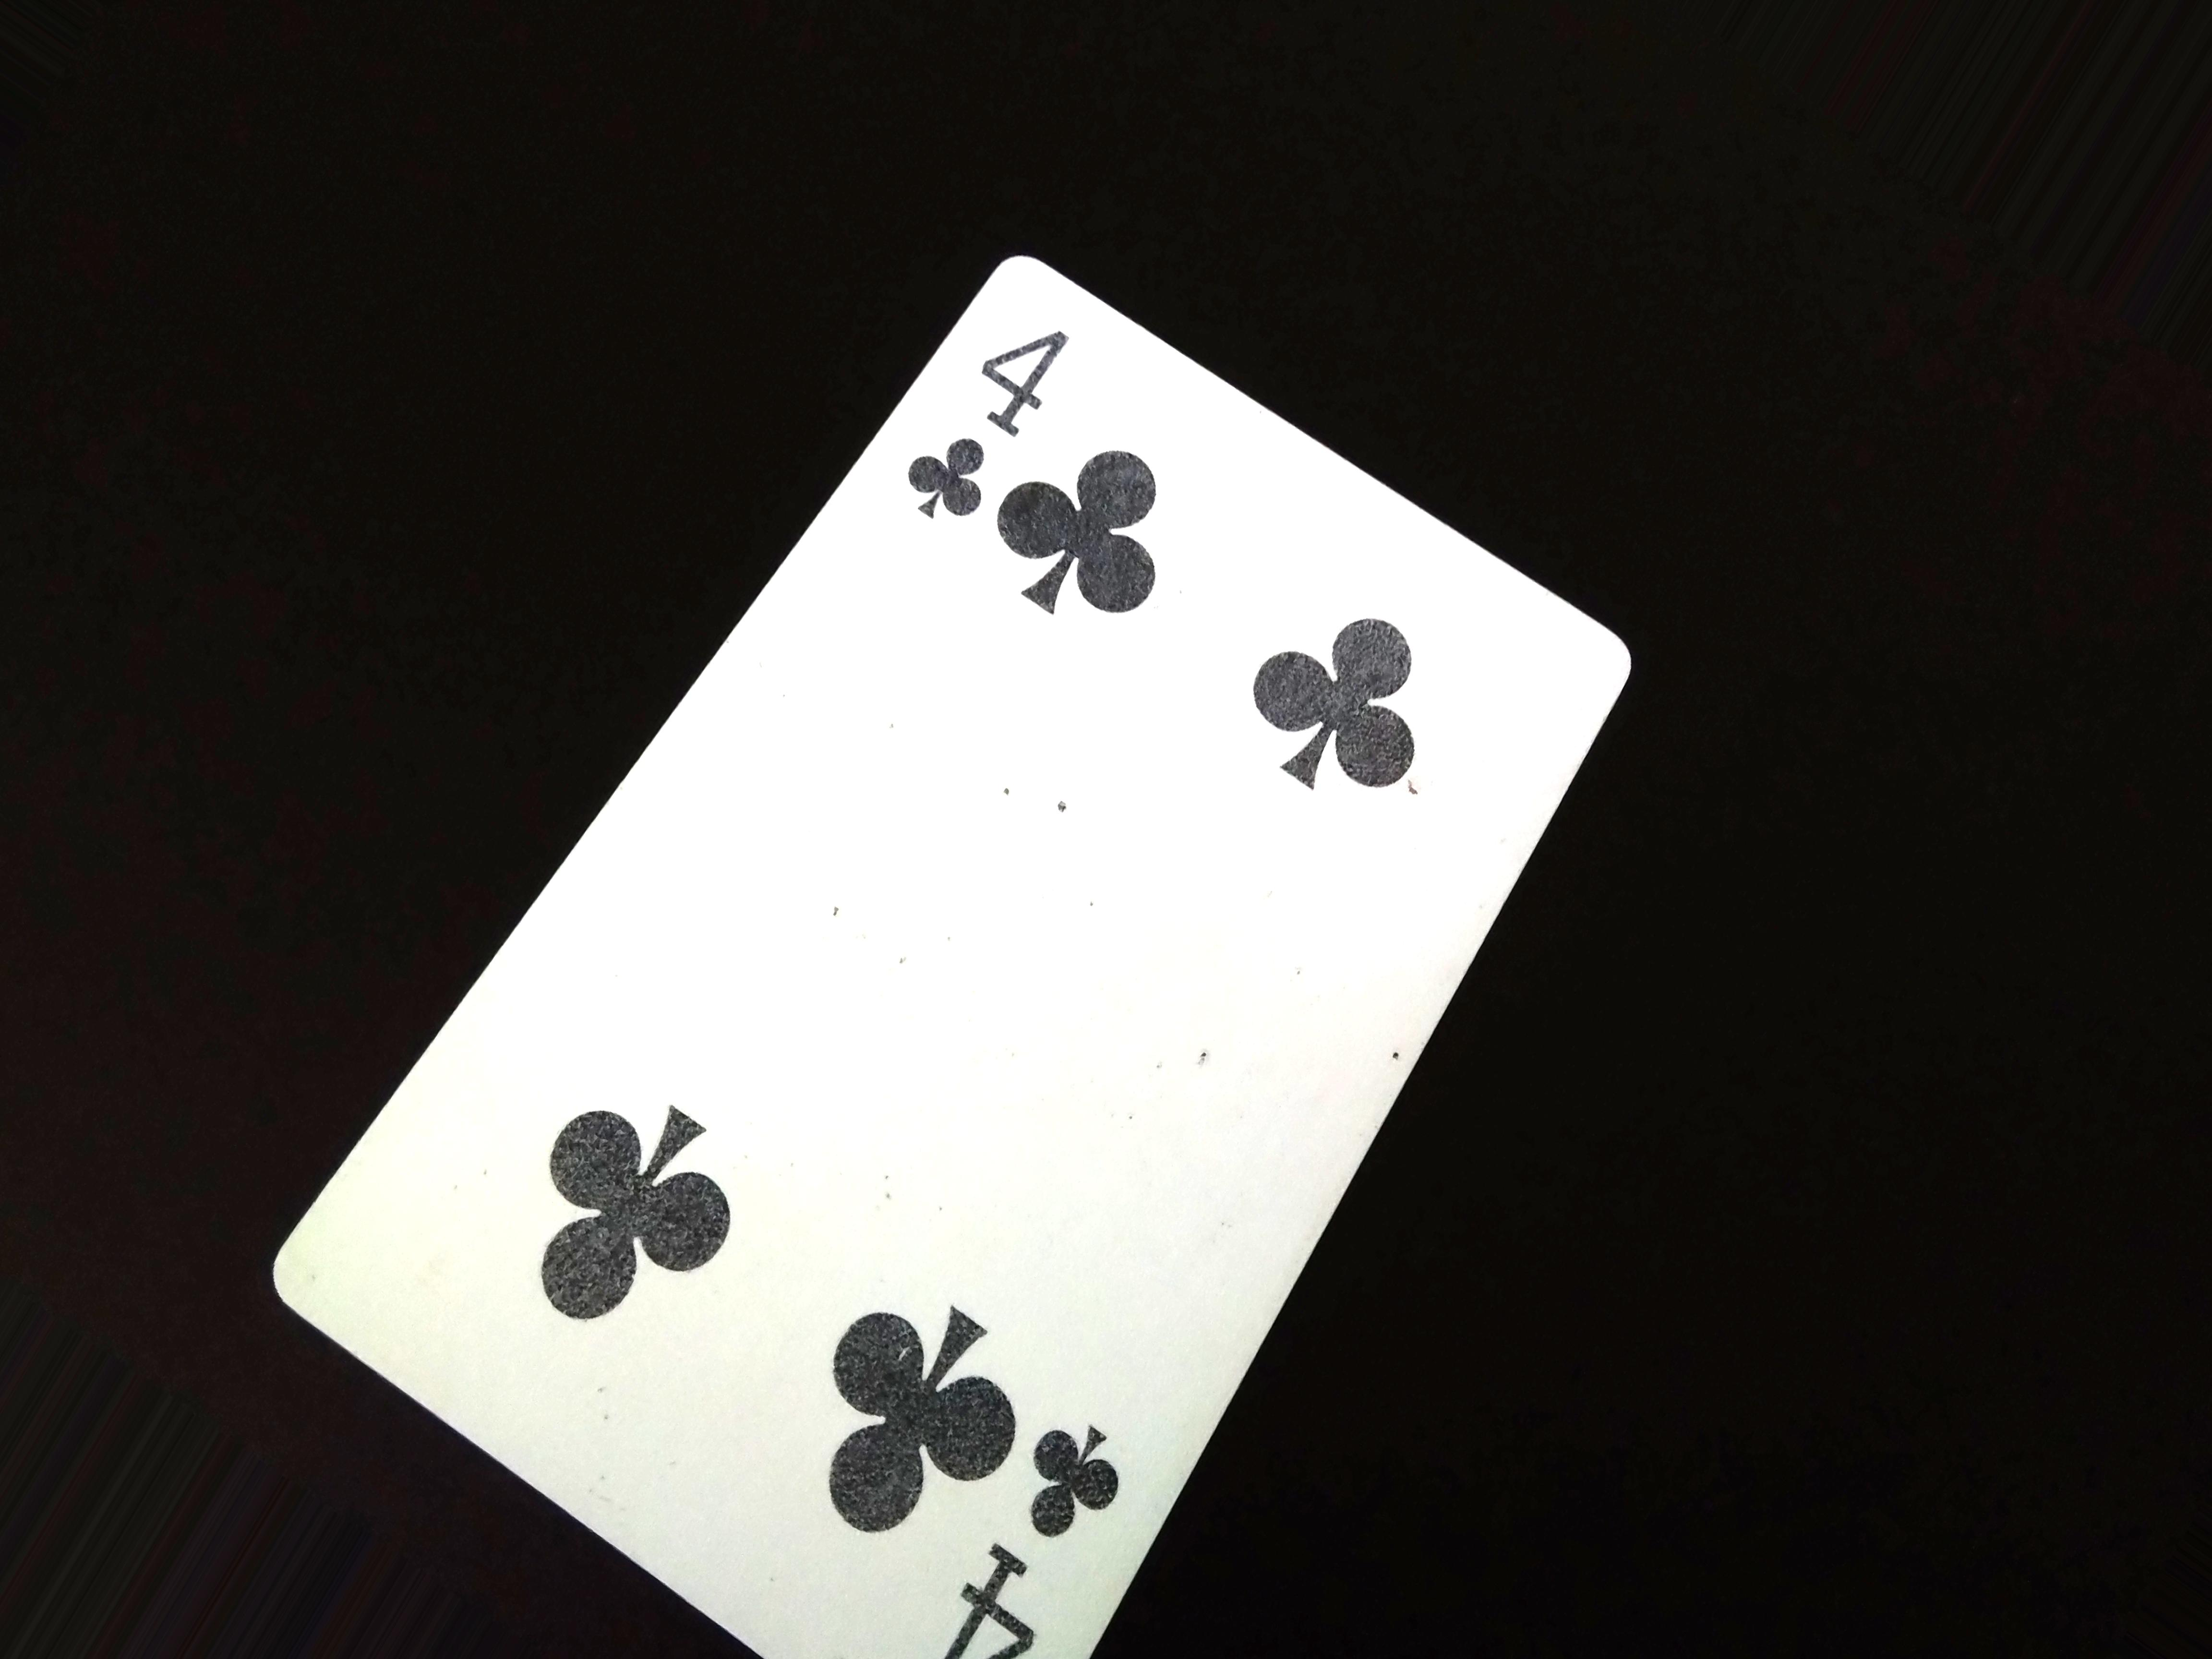4C: (890, 315, 1073, 570)
